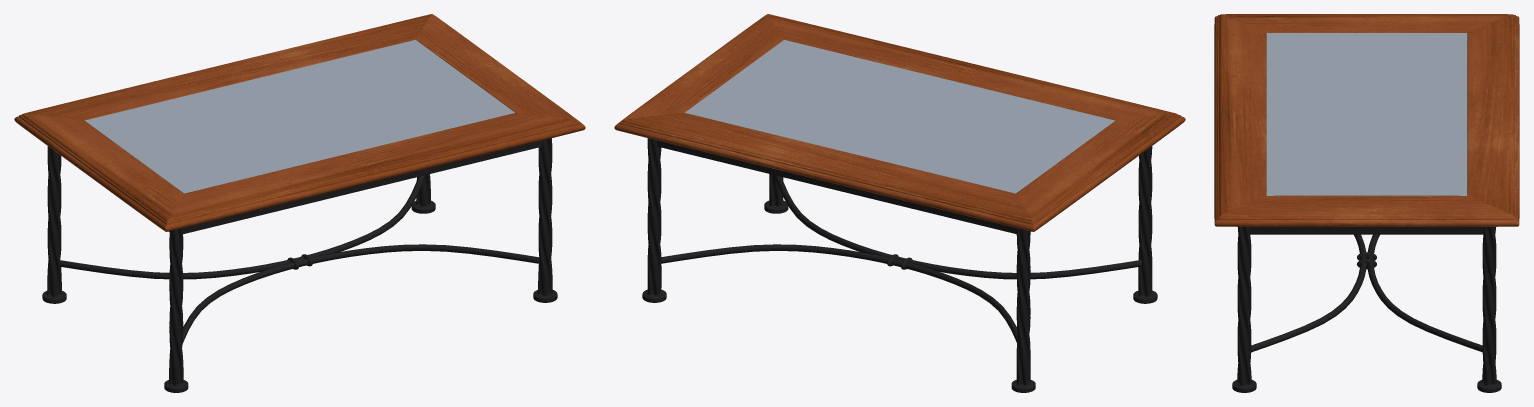
The model's file is table_wood_and_iron.obj.
The picture shows the model from 3 angles, left to right: view 1: azimuth 30°, elevation 25°; view 2: azimuth 150°, elevation 25°; view 3: azimuth 270°, elevation 25°; orthographic projection.
Visible parts, largest first — view 1: woodenframe_Plane.001, glass_Cube, ironbase_Cylinder.002; view 2: woodenframe_Plane.001, glass_Cube, ironbase_Cylinder.002; view 3: glass_Cube, woodenframe_Plane.001, ironbase_Cylinder.002.
Part boxes in pixels (x1,y1,x2,y2): woodenframe_Plane.001: [14, 14, 585, 231]; glass_Cube: [84, 40, 514, 193]; ironbase_Cylinder.002: [42, 138, 557, 392]; woodenframe_Plane.001: [614, 14, 1185, 231]; glass_Cube: [685, 40, 1115, 193]; ironbase_Cylinder.002: [642, 138, 1157, 392]; glass_Cube: [1266, 33, 1467, 195]; woodenframe_Plane.001: [1214, 14, 1519, 226]; ironbase_Cylinder.002: [1232, 227, 1501, 392].
Size of the model in its own units: 1.21 by 0.5026 by 0.7582.
3 materials, 1 textured.
